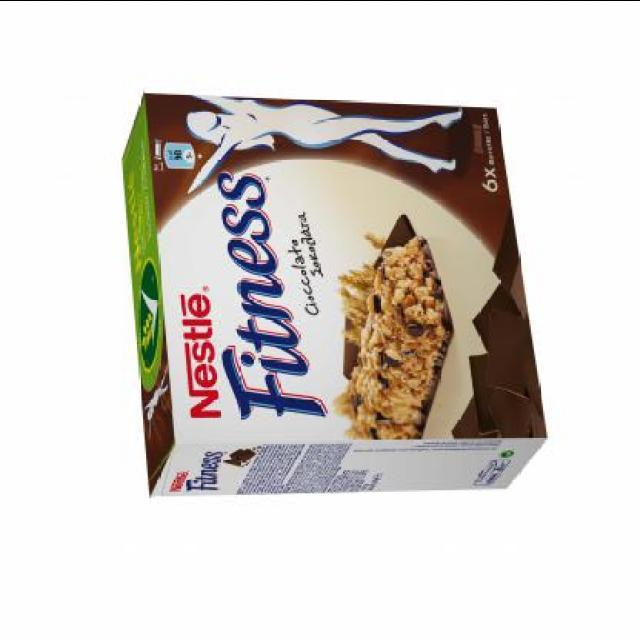Cereal bar: (110, 84, 552, 501)
